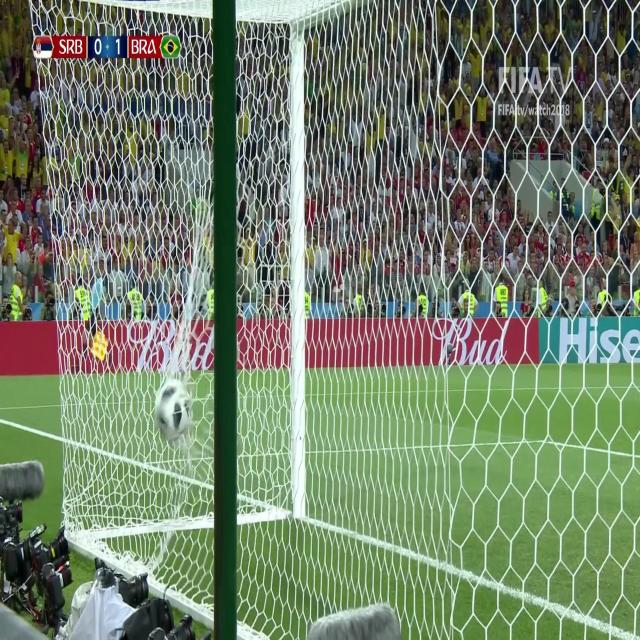ball: (154, 369, 192, 442)
